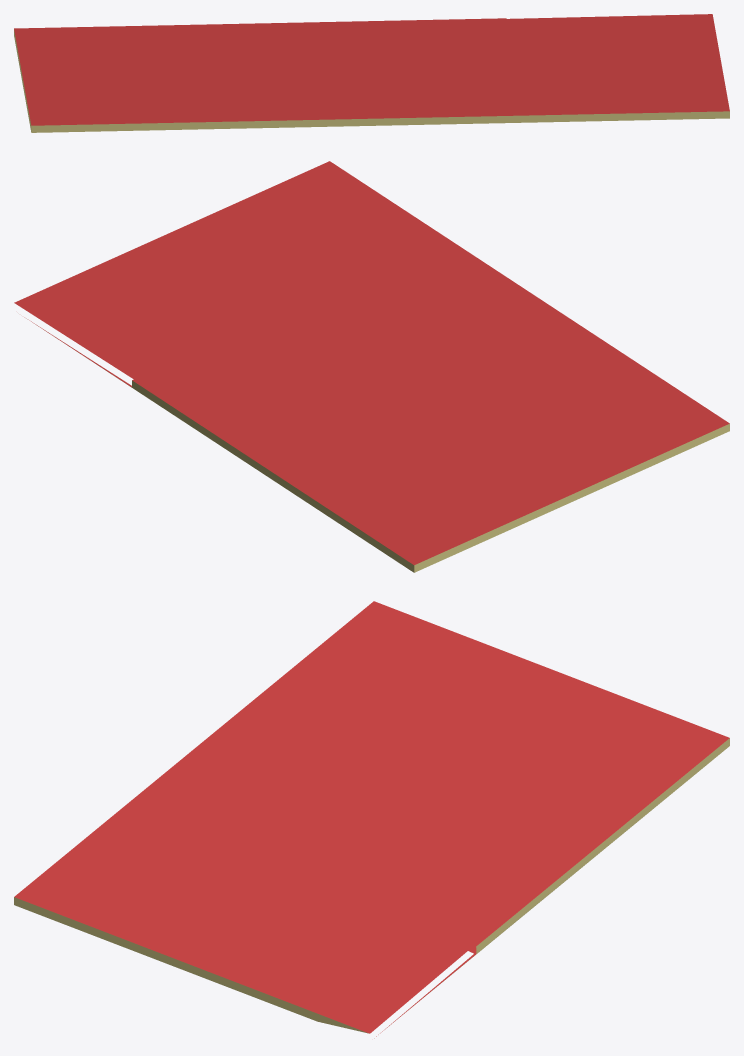
The picture shows the model from 3 angles, top to bottom: view 1: azimuth 30°, elevation 25°; view 2: azimuth 150°, elevation 25°; view 3: azimuth 270°, elevation 25°; orthographic projection. The views are drawn at different scales.
Size of the model in its own units: 9.92 by 8.04 by 0.837.
